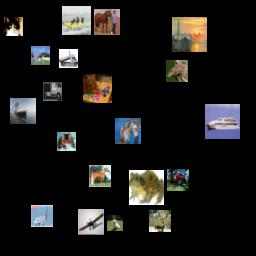airplane: (78, 209, 104, 235), (31, 205, 53, 227), (31, 46, 50, 65)
automobile: (167, 169, 189, 191)
bird: (166, 60, 188, 82)
cat: (83, 74, 112, 103), (57, 132, 76, 151), (4, 17, 23, 36)
deer: (149, 210, 171, 232)
dog: (107, 215, 123, 231)
frog: (129, 170, 164, 205)
ship: (205, 104, 240, 139), (172, 17, 207, 52), (62, 6, 91, 35), (10, 98, 36, 124)
truck: (43, 82, 62, 101), (59, 49, 78, 68)
